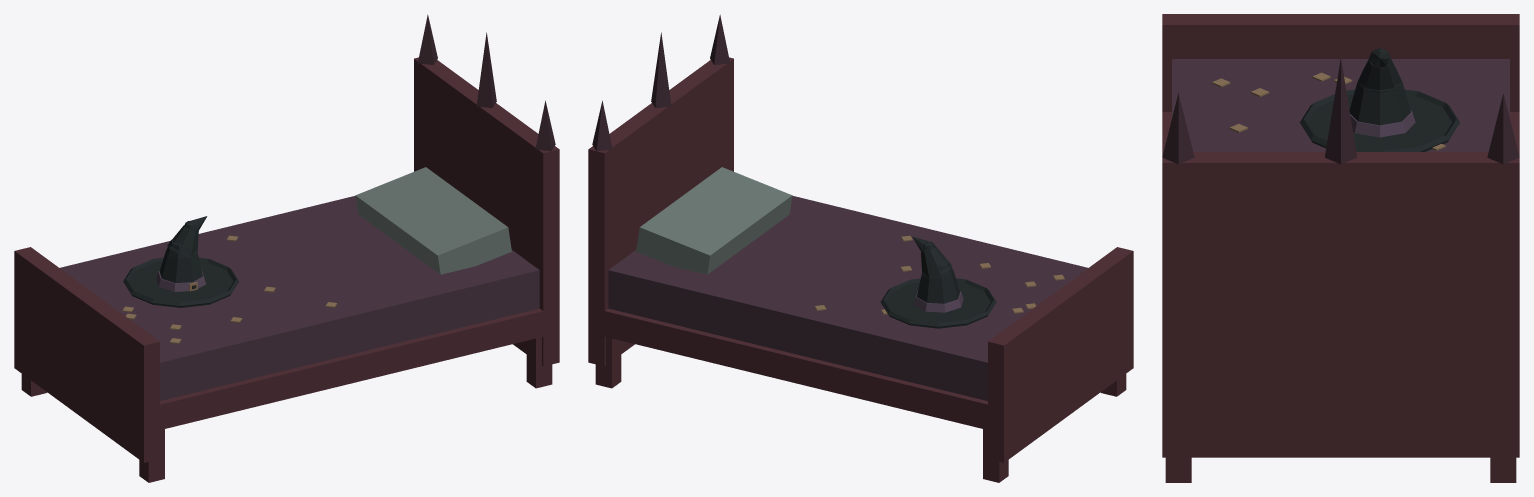
The model's file is pat.glb.
3 renders of one model, left to right at view 1: azimuth 30°, elevation 25°; view 2: azimuth 150°, elevation 25°; view 3: azimuth 270°, elevation 25°, orthographic. The views are drawn at different scales.
Parts seen in each view (by area): view 1: Pat; view 2: Pat; view 3: Pat.
Boxes of the visible parts, x1,y1,x2,y2 form: Pat: (14,14,559,482); Pat: (588,14,1133,482); Pat: (1162,14,1519,482).
Size of the model in its own units: 2.05 by 1.44 by 1.1.
